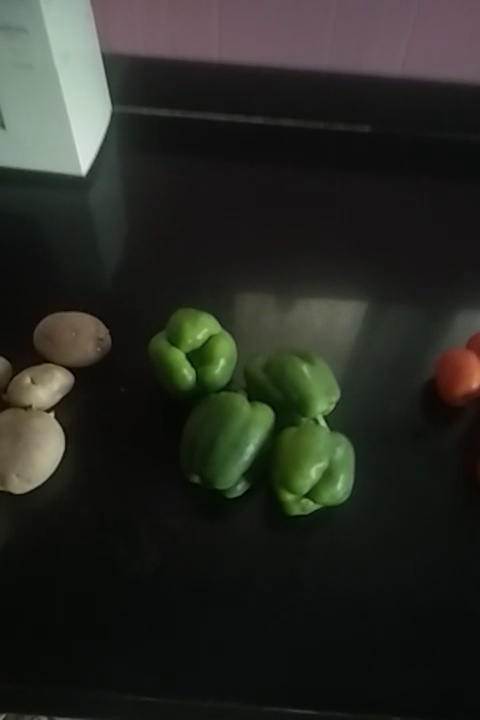capsicum: (134, 305, 241, 398), (179, 387, 269, 496), (269, 419, 359, 515), (253, 346, 349, 425)
potato: (1, 407, 70, 499), (36, 307, 103, 371), (3, 363, 81, 410)
tomato: (433, 346, 479, 413)
